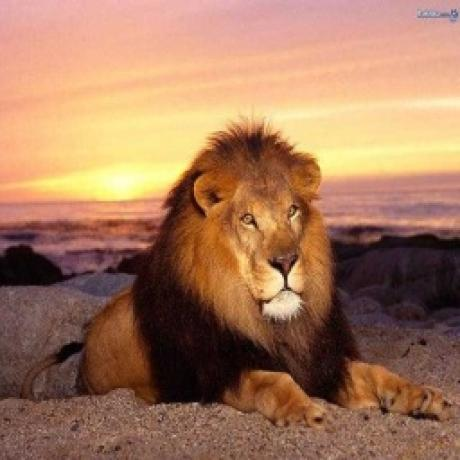Lion: (25, 128, 452, 431)
